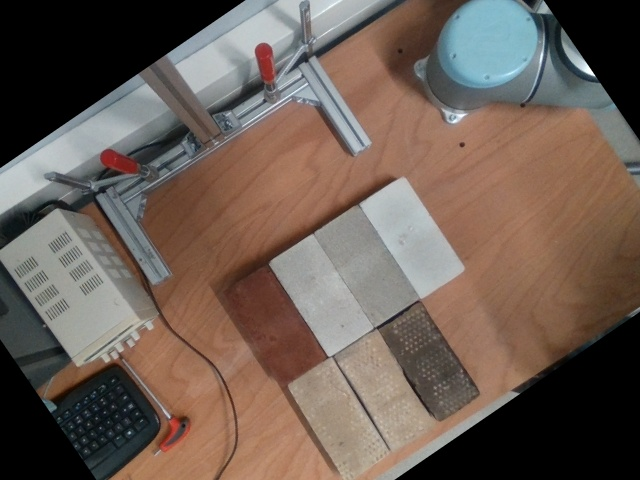brick: (359, 176, 466, 299), (221, 266, 327, 389), (313, 205, 419, 327), (377, 301, 483, 423), (285, 358, 390, 479), (333, 330, 435, 453), (269, 236, 371, 356)
